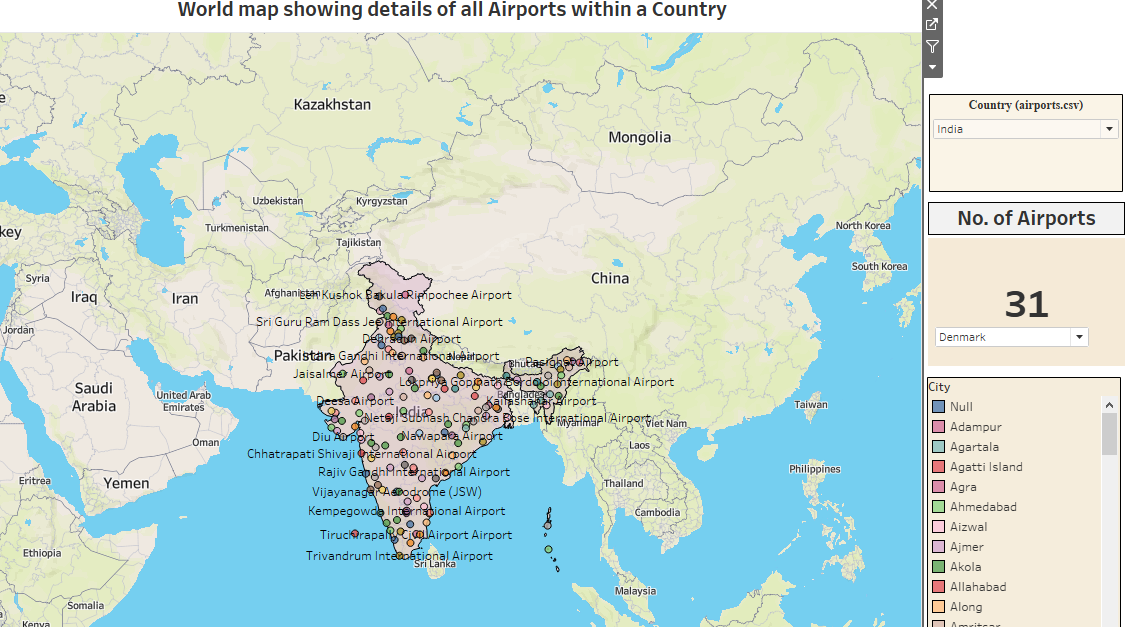

Layout of this report page (visuals, bound fields, positions):
{"tool":"tableau","page":{"name":"Dashboard 1","canvas":[1169,827],"ordinal":0},"visuals":[{"type":"worksheet","title":"World map showing details of all Airports within a Country","mark":"Multipolygon","rows":["Latitude"],"cols":["Longitude","Longitude"],"box":[14,45,940,774]},{"type":"filter","title":"World map showing details of all Airports within a Country","param":"[federated.186ocz514s2u791d33luy1xl23ob].[none:Country (airports.csv):nk]","box":[961,149,194,98]},{"type":"worksheet","title":"No. of Airports","mark":"Automatic","box":[960,257,197,164]},{"type":"filter","title":"No. of Airports","param":"[federated.186ocz514s2u791d33luy1xl23ob].[none:Country (airports.csv):nk]","box":[964,379,160,44]},{"type":"legend","title":"World map showing details of all Airports within a Country","param":"[federated.186ocz514s2u791d33luy1xl23ob].[none:City:nk]","box":[959,432,194,383]}]}

Visuals, with their boxes on the page's 1169x827 design canvas (x1, y1, x2, y2). These are canvas units, not pixel positions in the 1128x627 screenshot, which may show the page scaled, cropped or inside an application window:
"World map showing details of all Airports within a Country" worksheet (Multipolygon marks): Rect(14, 45, 954, 819)
"World map showing details of all Airports within a Country" filter: Rect(961, 149, 1155, 247)
"No. of Airports" worksheet: Rect(960, 257, 1157, 421)
"No. of Airports" filter: Rect(964, 379, 1124, 423)
"World map showing details of all Airports within a Country" legend: Rect(959, 432, 1153, 815)
